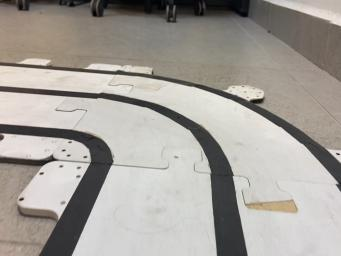street: (0, 62, 341, 256), (0, 62, 341, 256), (0, 62, 341, 256)
